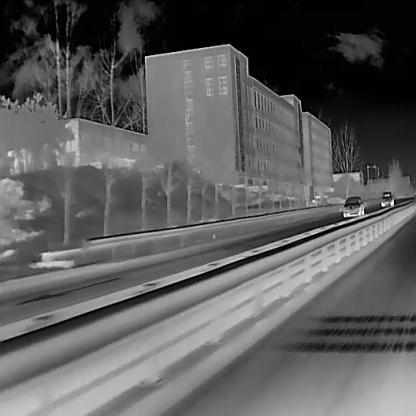car: (341, 194, 364, 217), (379, 190, 393, 206)
